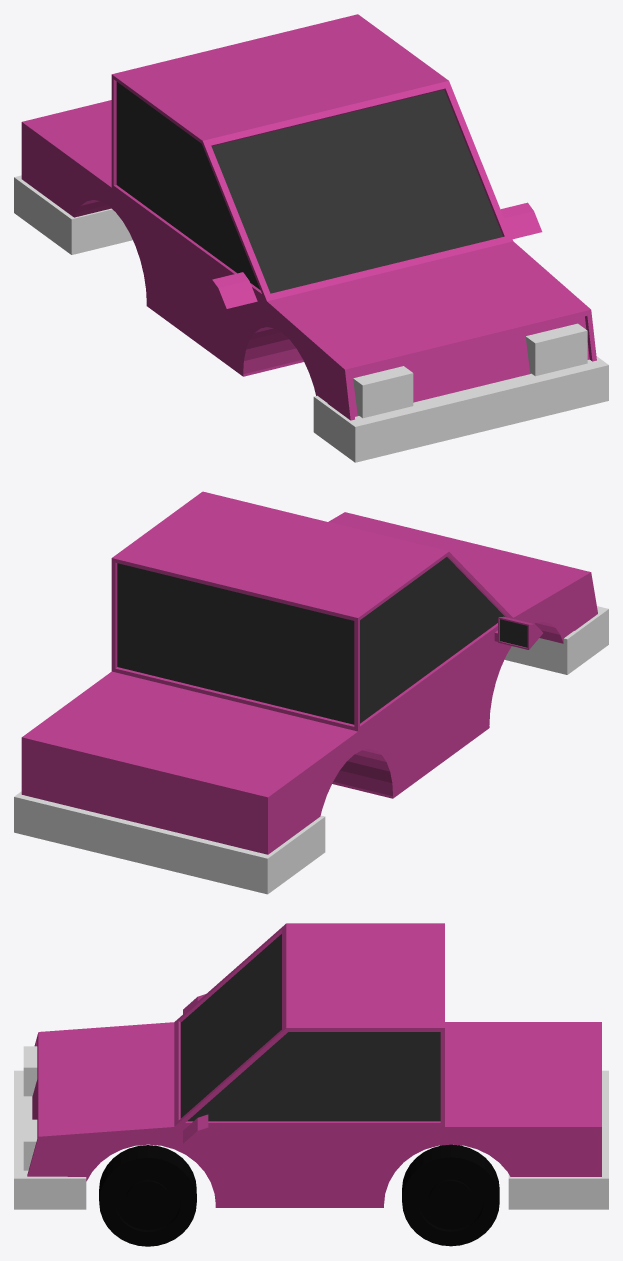
Rendered from pink-car.glb.
3 views of the same model, one above another, from view 1: azimuth 30°, elevation 25°; view 2: azimuth 150°, elevation 25°; view 3: azimuth 270°, elevation 25° (orthographic). The views are drawn at different scales.
Parts seen in each view (by area): view 1: car; view 2: car; view 3: car, wheel.
Boxes of the visible parts, x1,y1,x2,y2 form: car: [14, 14, 608, 462]; car: [14, 491, 608, 894]; car: [14, 923, 608, 1209]; wheel: [99, 1144, 499, 1246].
Size of what is drawn, in the model's own units: 2.56 by 1.94 by 4.8.
